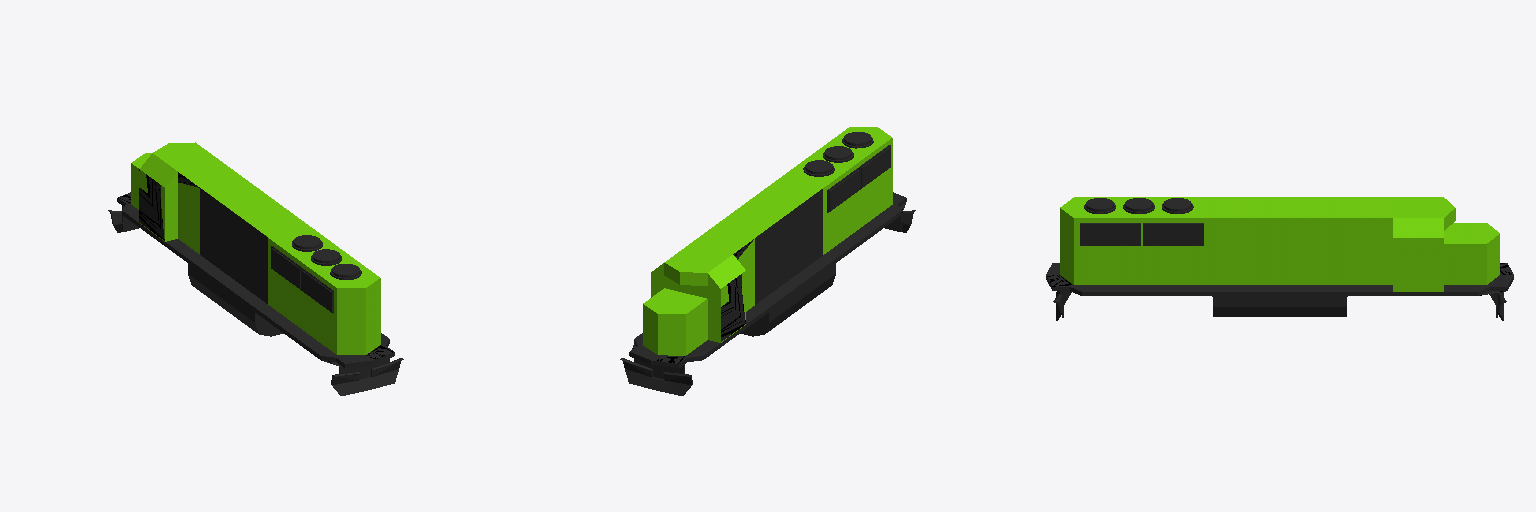
The picture shows the model from 3 angles: view 1: azimuth 30°, elevation 25°; view 2: azimuth 150°, elevation 25°; view 3: azimuth 270°, elevation 25°; orthographic projection.
Parts seen in each view (by area): view 1: Hull; view 2: Hull; view 3: Hull.
Boxes of the visible parts, box(x1,y1,x2,y2) form: Hull: box(108, 142, 403, 395); Hull: box(620, 127, 915, 395); Hull: box(1046, 197, 1513, 320).
Size of the model in its own units: 0.2807 by 0.4063 by 1.64.
Materials: 1 (1 with a texture image).